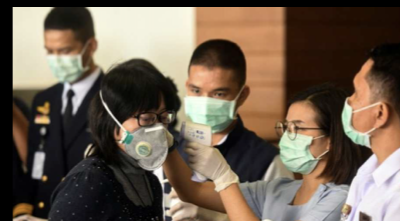with_mask: (122, 107, 174, 171), (182, 80, 237, 134), (277, 117, 322, 177), (341, 80, 373, 148), (46, 43, 85, 83)
